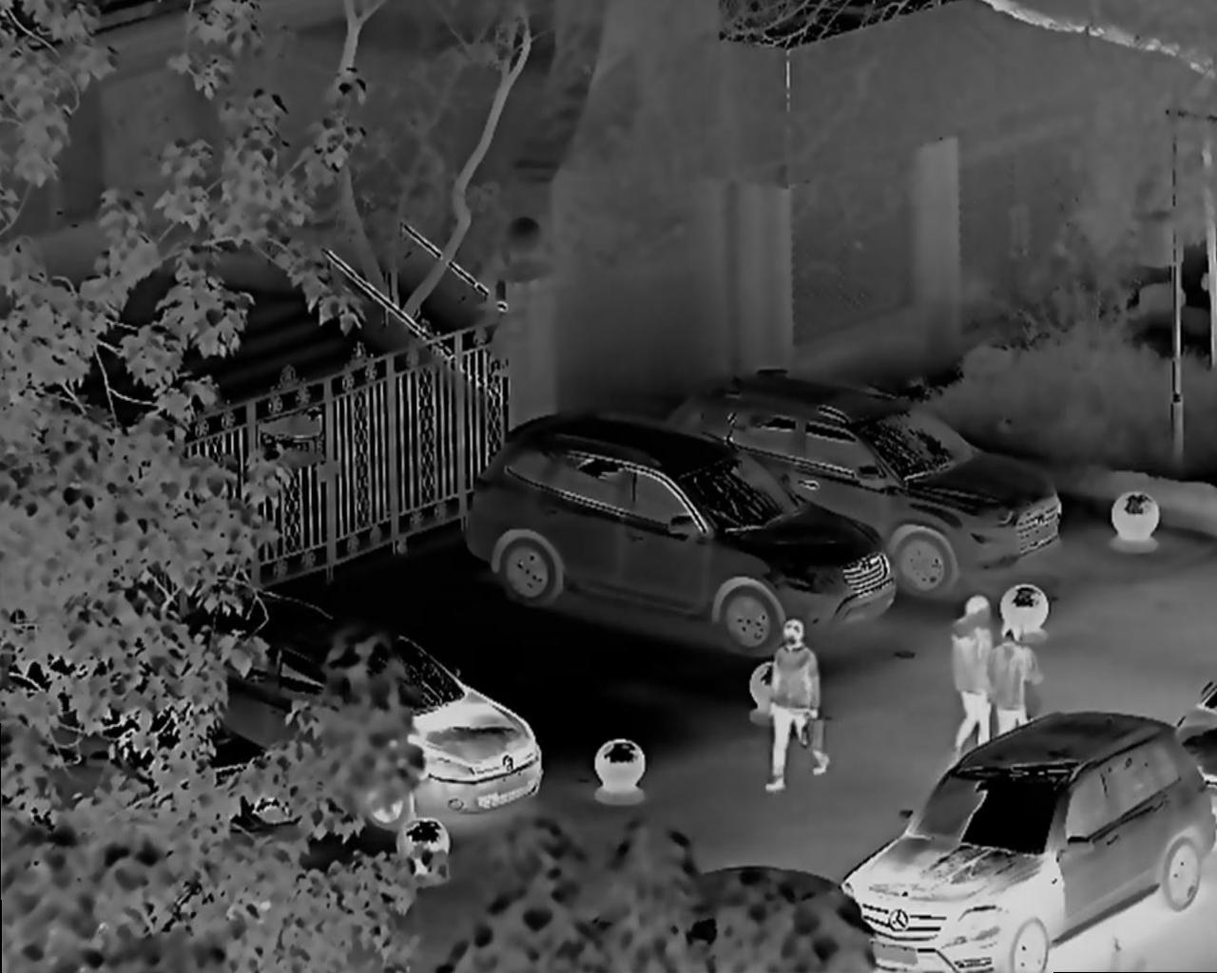person: (751, 614, 836, 779), (951, 592, 995, 746), (991, 617, 1045, 740)
